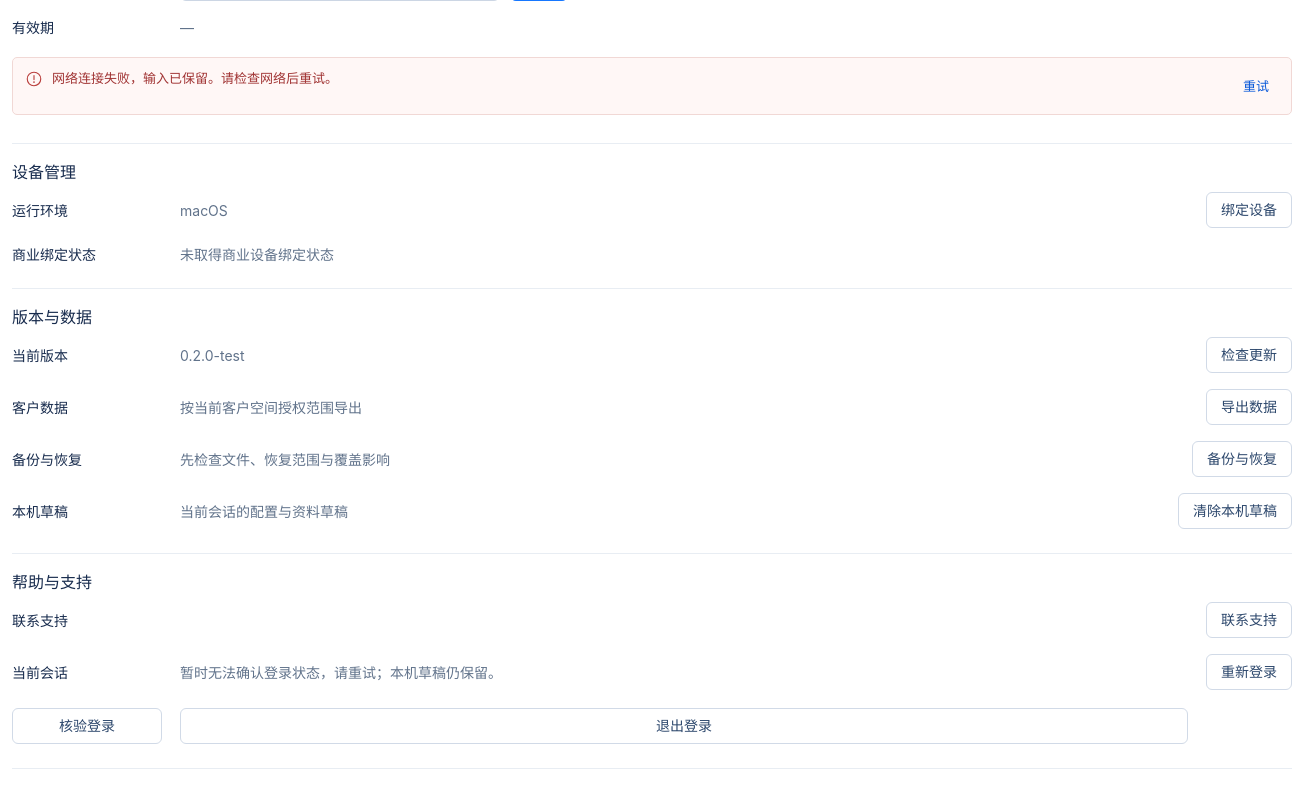
Test case: 设备与授权 › 会话核验错误 503 不冒充已登录，允许重新核验
This screenshot has width=1304, height=785.
(page scrolled)
expect the text "暂时无法确认登录状态，请重试；本机草稿仍保留。" is shown: met, box [180,664,502,681]
expect the text "已登录" is not shown: met
Click the button "核验登录". click: coordinates (87, 726)
box: [12,708,162,744]
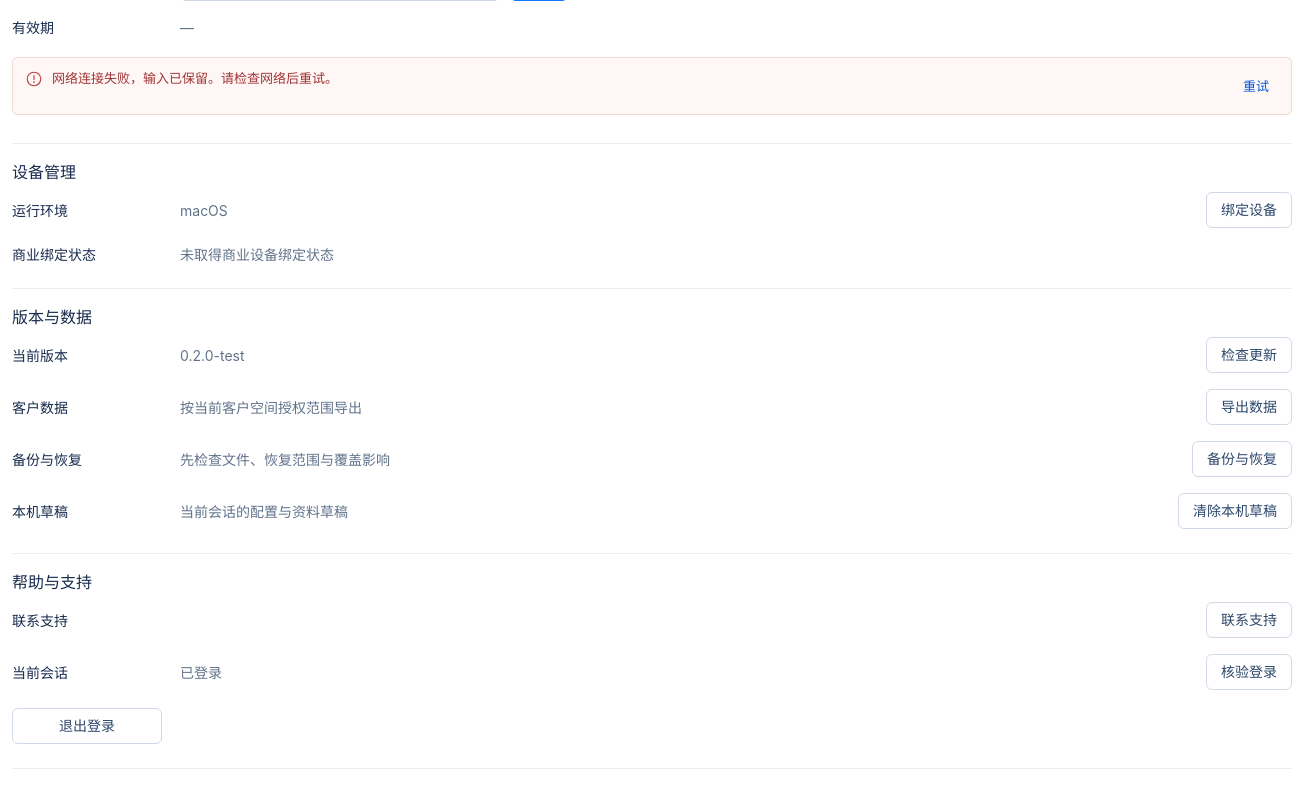
expect the text "已登录" is shown: met, box [180,664,222,681]
